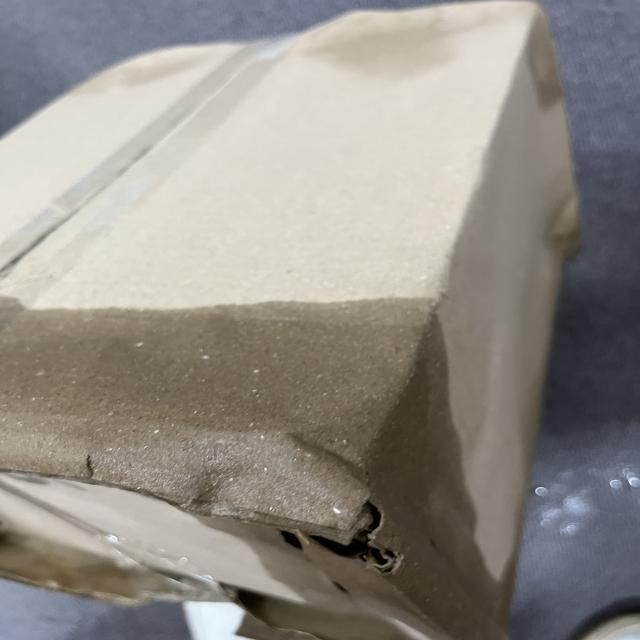wet: (14, 303, 542, 639)
